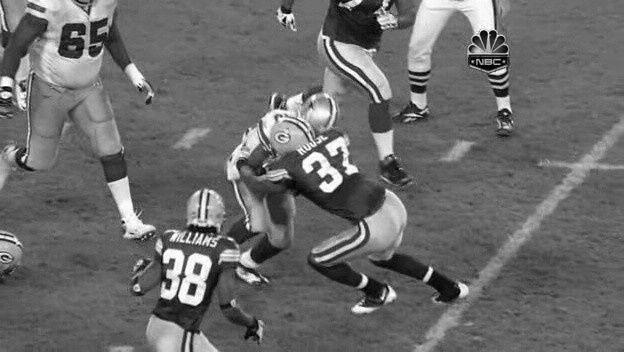person: (300, 93, 336, 139), (299, 93, 335, 139), (301, 93, 337, 139), (300, 92, 336, 138), (300, 94, 336, 140)
target_negative: (133, 14, 383, 232), (332, 176, 506, 279), (128, 138, 214, 334), (275, 103, 569, 149), (121, 258, 171, 304), (564, 170, 568, 271)
